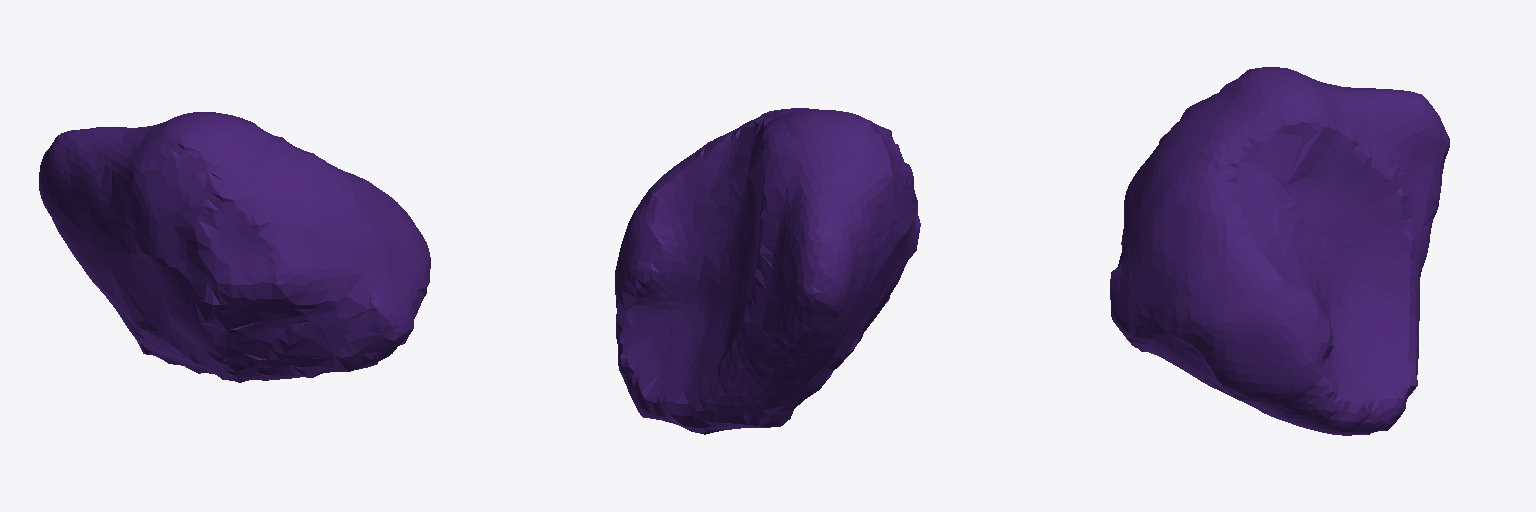
Rendered from Model_10455_LH__Intermediate_gray_layer_of_the_superior_colliculus_(InG).obj.
The picture shows the model from 3 angles: view 1: azimuth 30°, elevation 25°; view 2: azimuth 150°, elevation 25°; view 3: azimuth 270°, elevation 25°; orthographic projection.
Size of the model in its own units: 2.81 by 2.8 by 2.87.